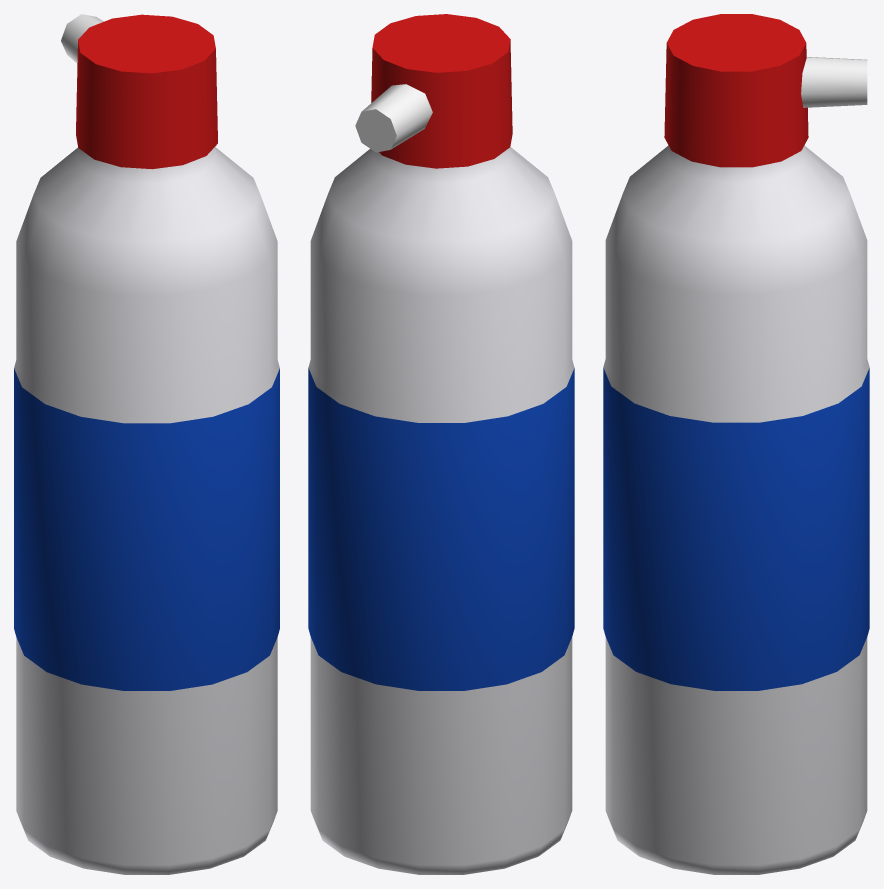
The model's file is spray_can.glb.
3 views of the same model, side by side, from view 1: azimuth 30°, elevation 25°; view 2: azimuth 150°, elevation 25°; view 3: azimuth 270°, elevation 25° (orthographic).
Visible parts, largest first — view 1: SprayCan; view 2: SprayCan; view 3: SprayCan.
Part boxes in pixels (x1=…): SprayCan: x1=14, y1=14, x2=279, y2=874; SprayCan: x1=308, y1=14, x2=574, y2=874; SprayCan: x1=603, y1=14, x2=869, y2=874.
Bounding box in the file's own units: 0.0601 × 0.2 × 0.061.
